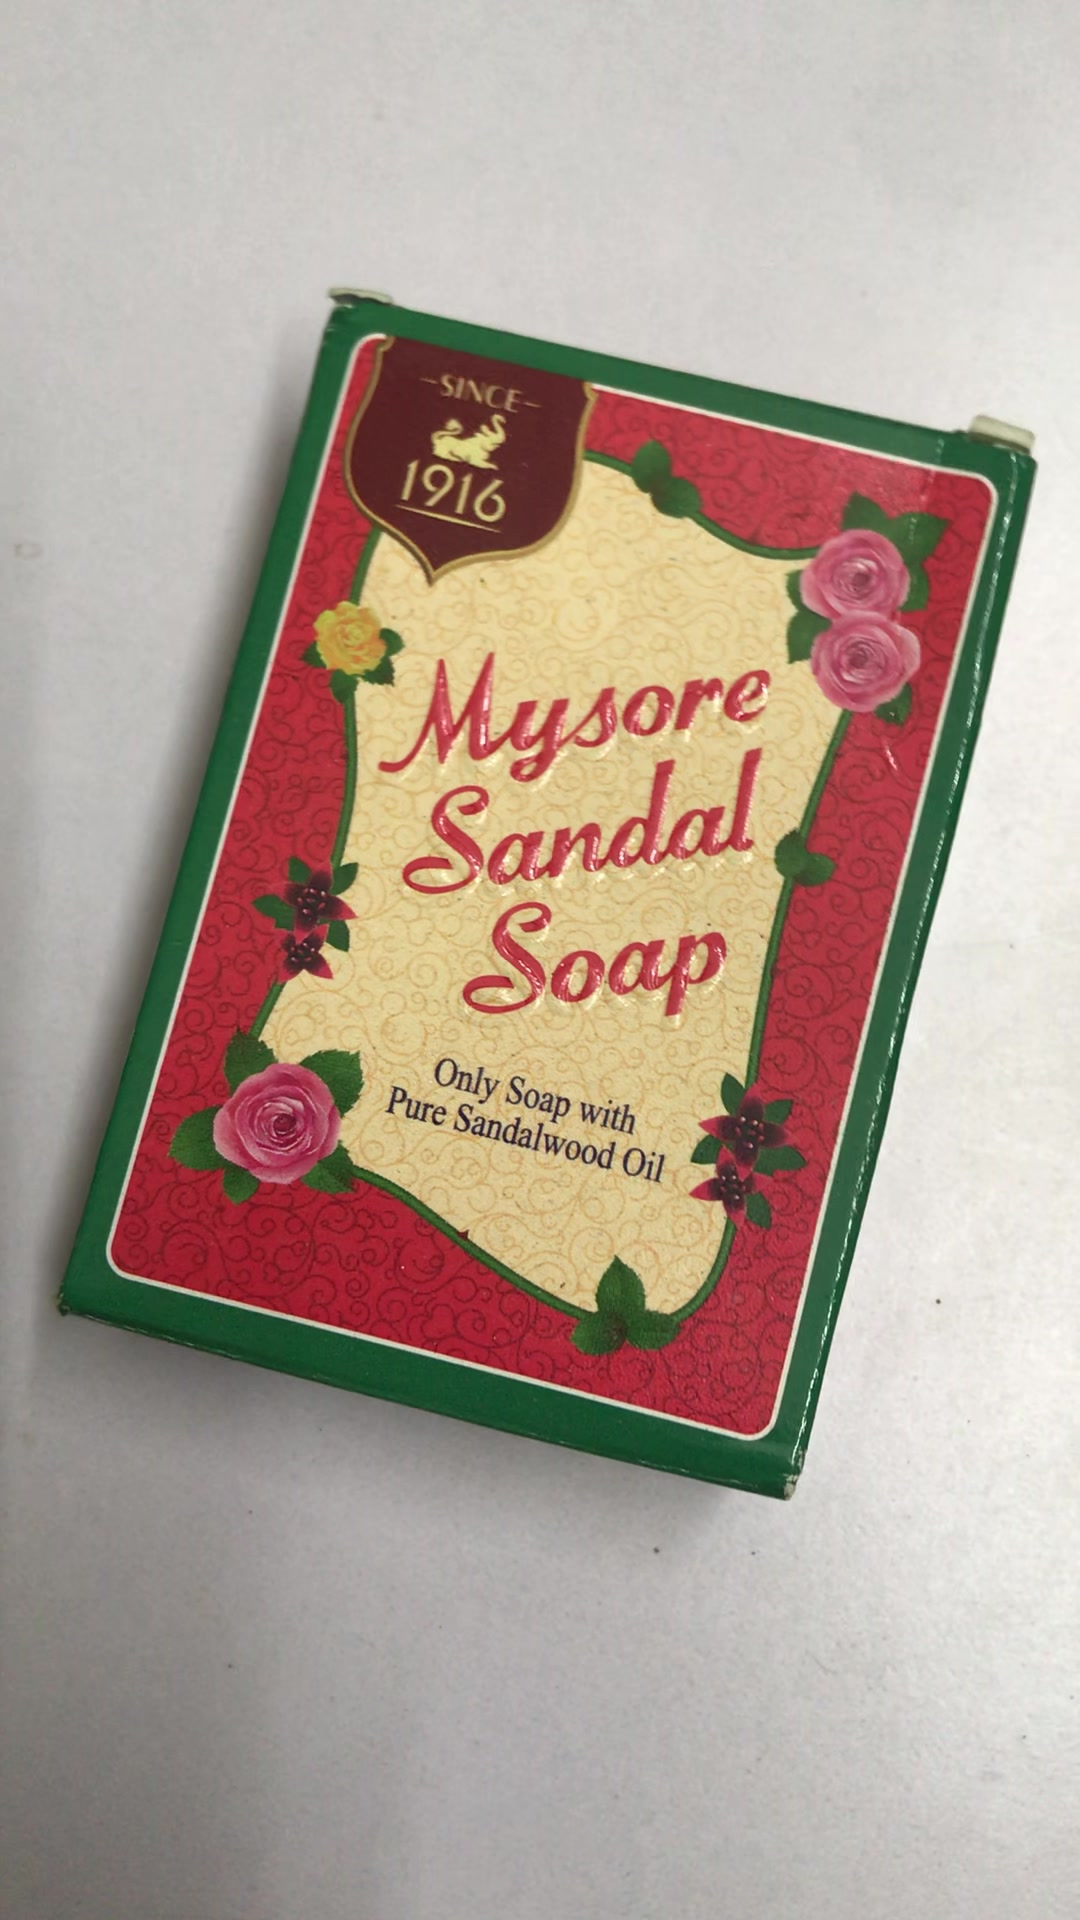mysore sandal soap: (53, 291, 1040, 1502)
